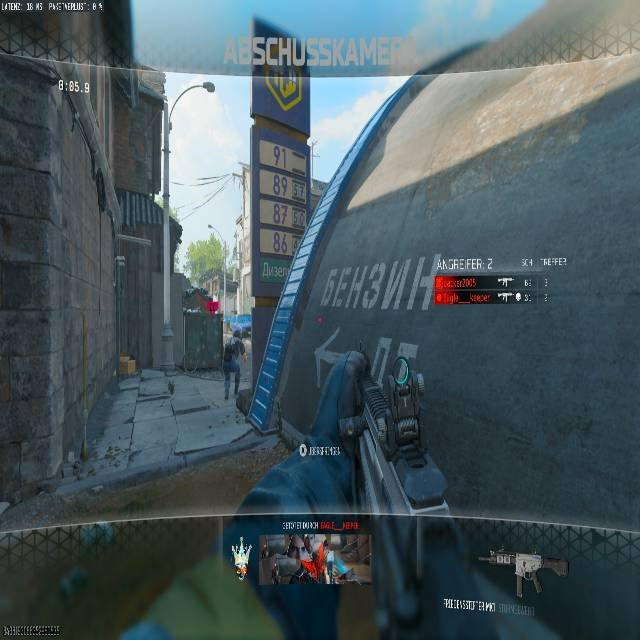player: (221, 331, 245, 400)
